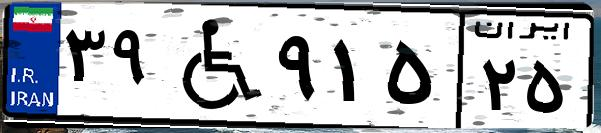1: (330, 28, 385, 110)
2: (475, 38, 525, 113)
3: (57, 26, 110, 100)
5: (385, 28, 445, 110), (525, 38, 570, 115)
9: (270, 28, 330, 110), (110, 28, 158, 98)
ژ (معلولین و جانبازان): (158, 12, 270, 120)
